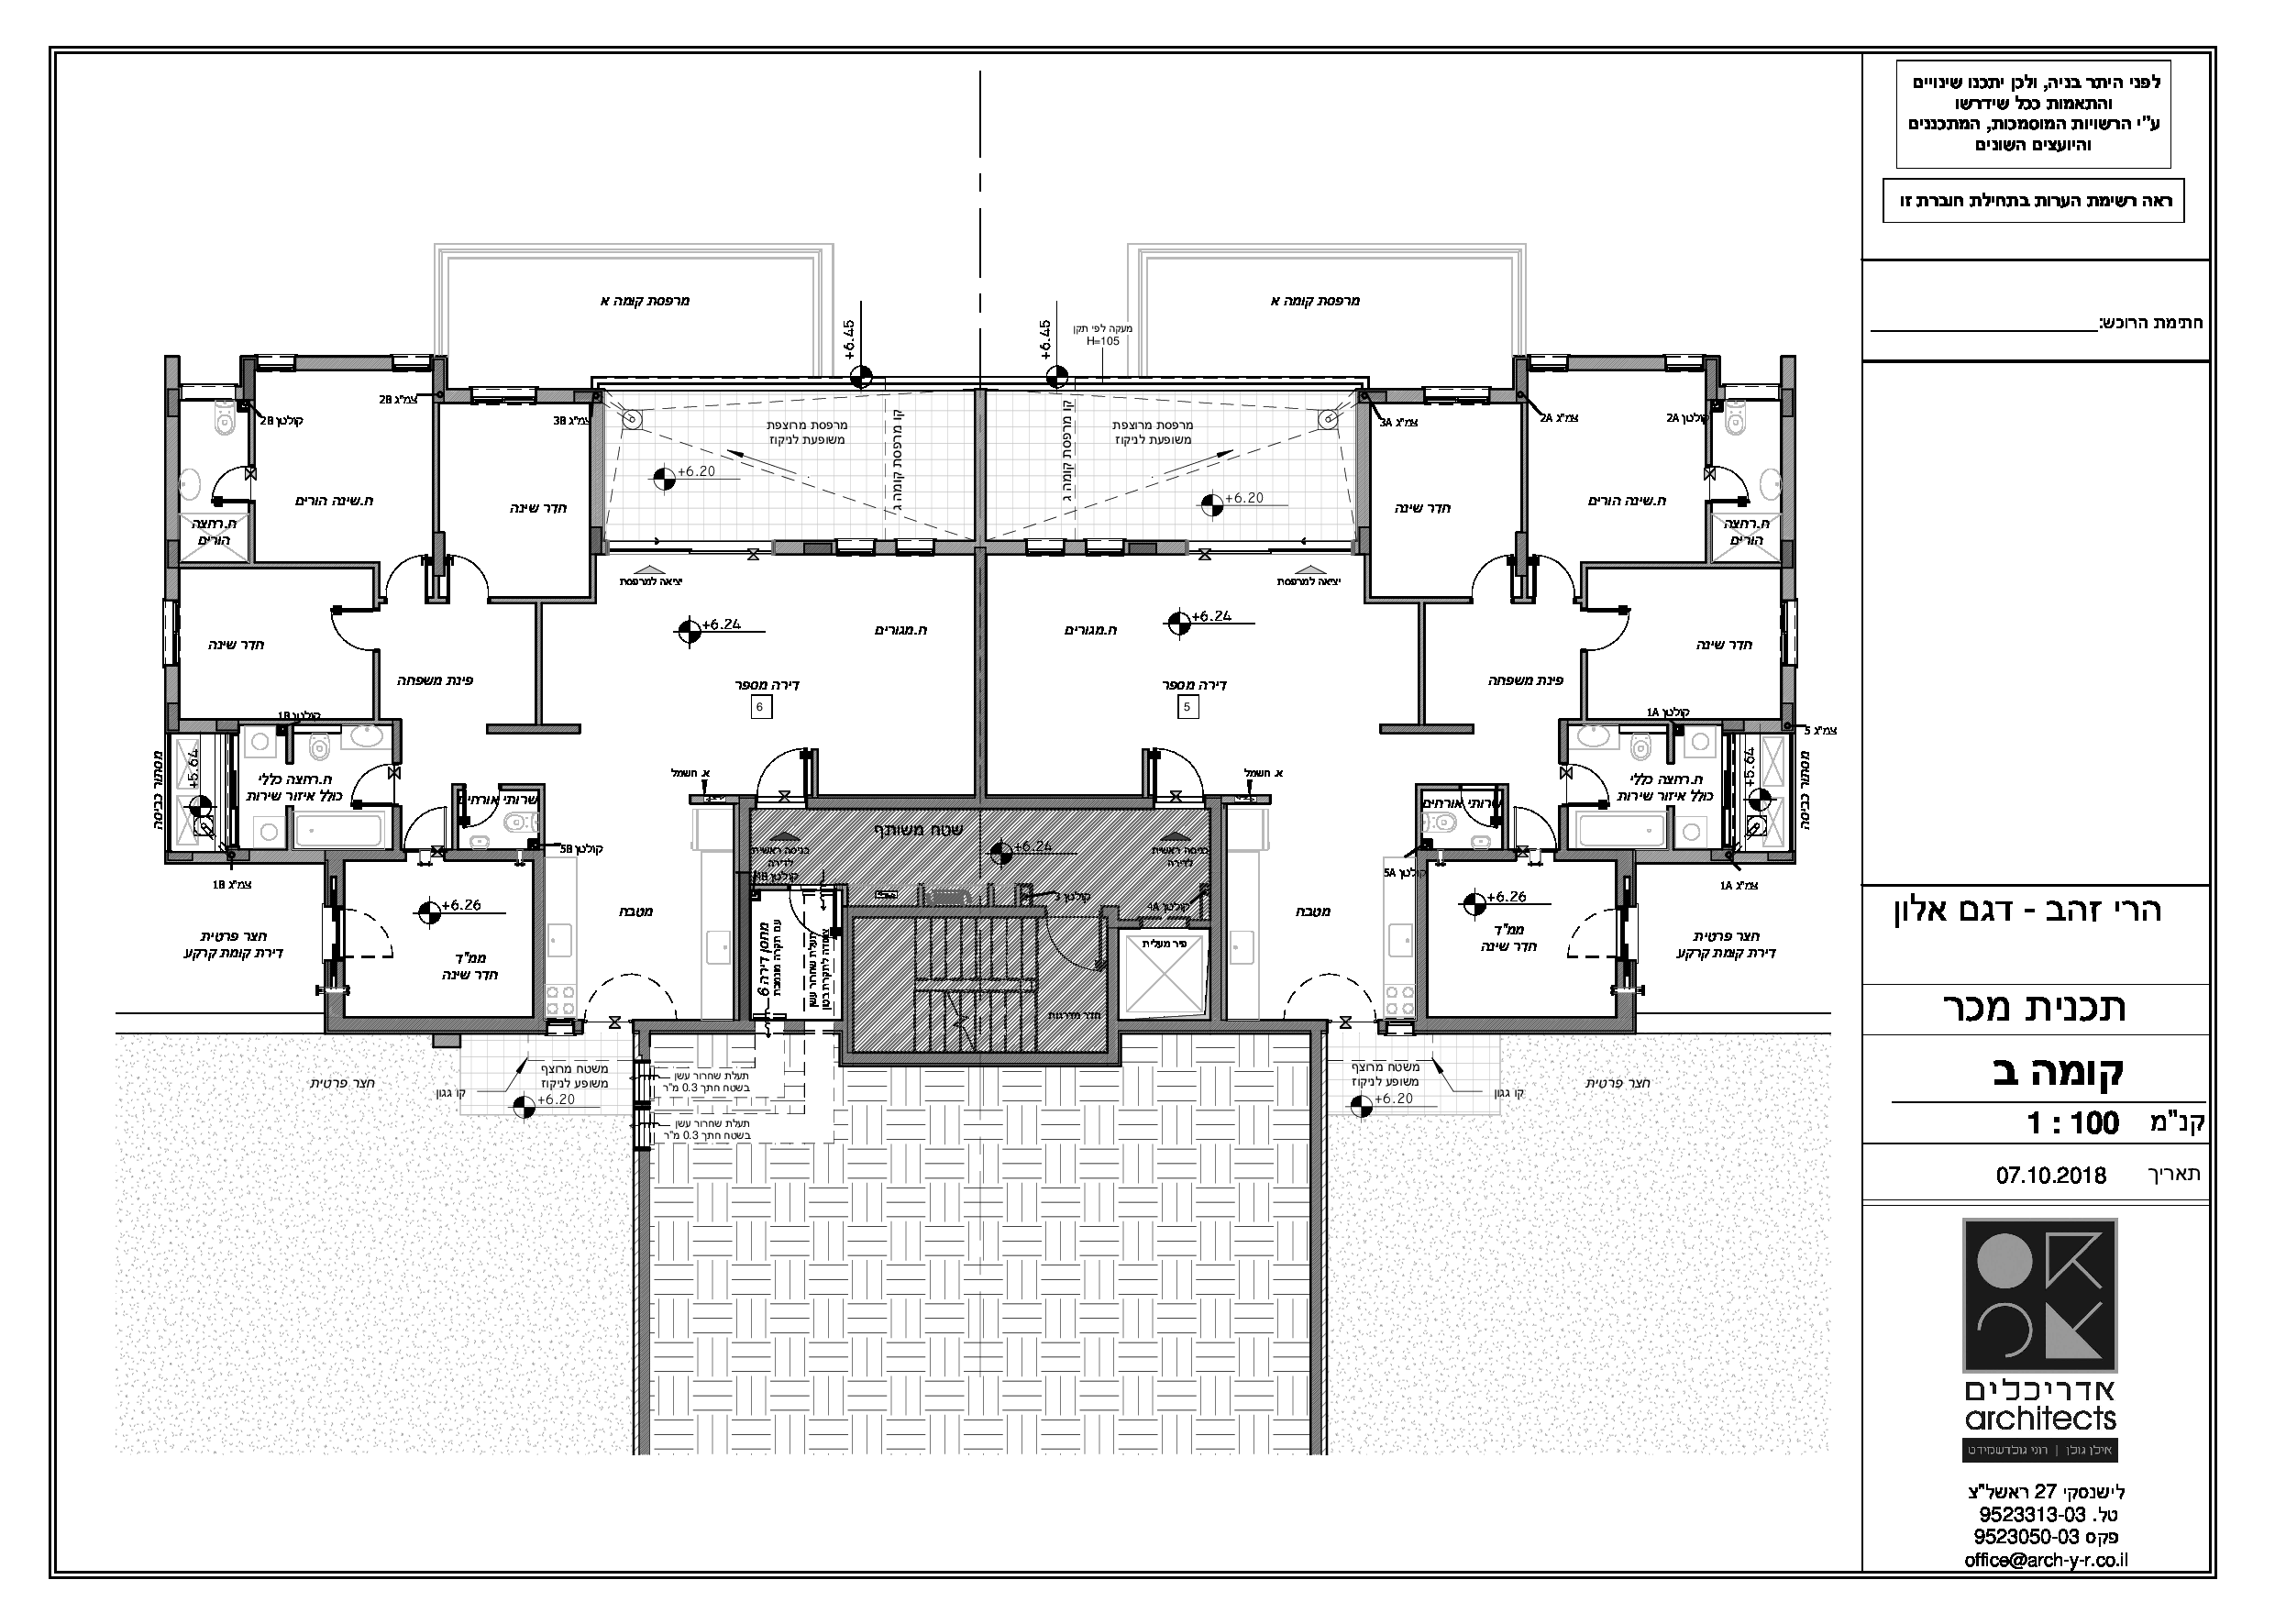door: (755, 740, 817, 793), (350, 903, 402, 963), (1593, 603, 1644, 664), (1530, 534, 1581, 594), (1151, 742, 1212, 789), (1470, 533, 1514, 596), (323, 601, 371, 659), (408, 805, 451, 866), (443, 550, 497, 594), (1574, 759, 1616, 816), (383, 547, 430, 596), (346, 756, 385, 816), (1511, 798, 1558, 844), (457, 793, 506, 833), (1718, 459, 1751, 513), (209, 460, 242, 504)
rd: (1846, 18, 2257, 1617)
wall: (841, 576, 1056, 814), (822, 794, 1135, 814), (1311, 1019, 1319, 1452), (327, 1016, 536, 1030), (532, 856, 543, 1028), (1419, 1019, 1623, 1028), (1110, 1019, 1312, 1028), (1783, 422, 1794, 540), (1418, 859, 1425, 1018), (1569, 357, 1658, 367), (1360, 404, 1367, 524), (167, 420, 174, 531), (594, 411, 601, 520), (1641, 852, 1697, 861), (488, 726, 574, 731), (1562, 852, 1632, 858)
window: (597, 531, 785, 564), (155, 596, 190, 668), (464, 378, 539, 410), (386, 346, 436, 376), (253, 343, 299, 374)
